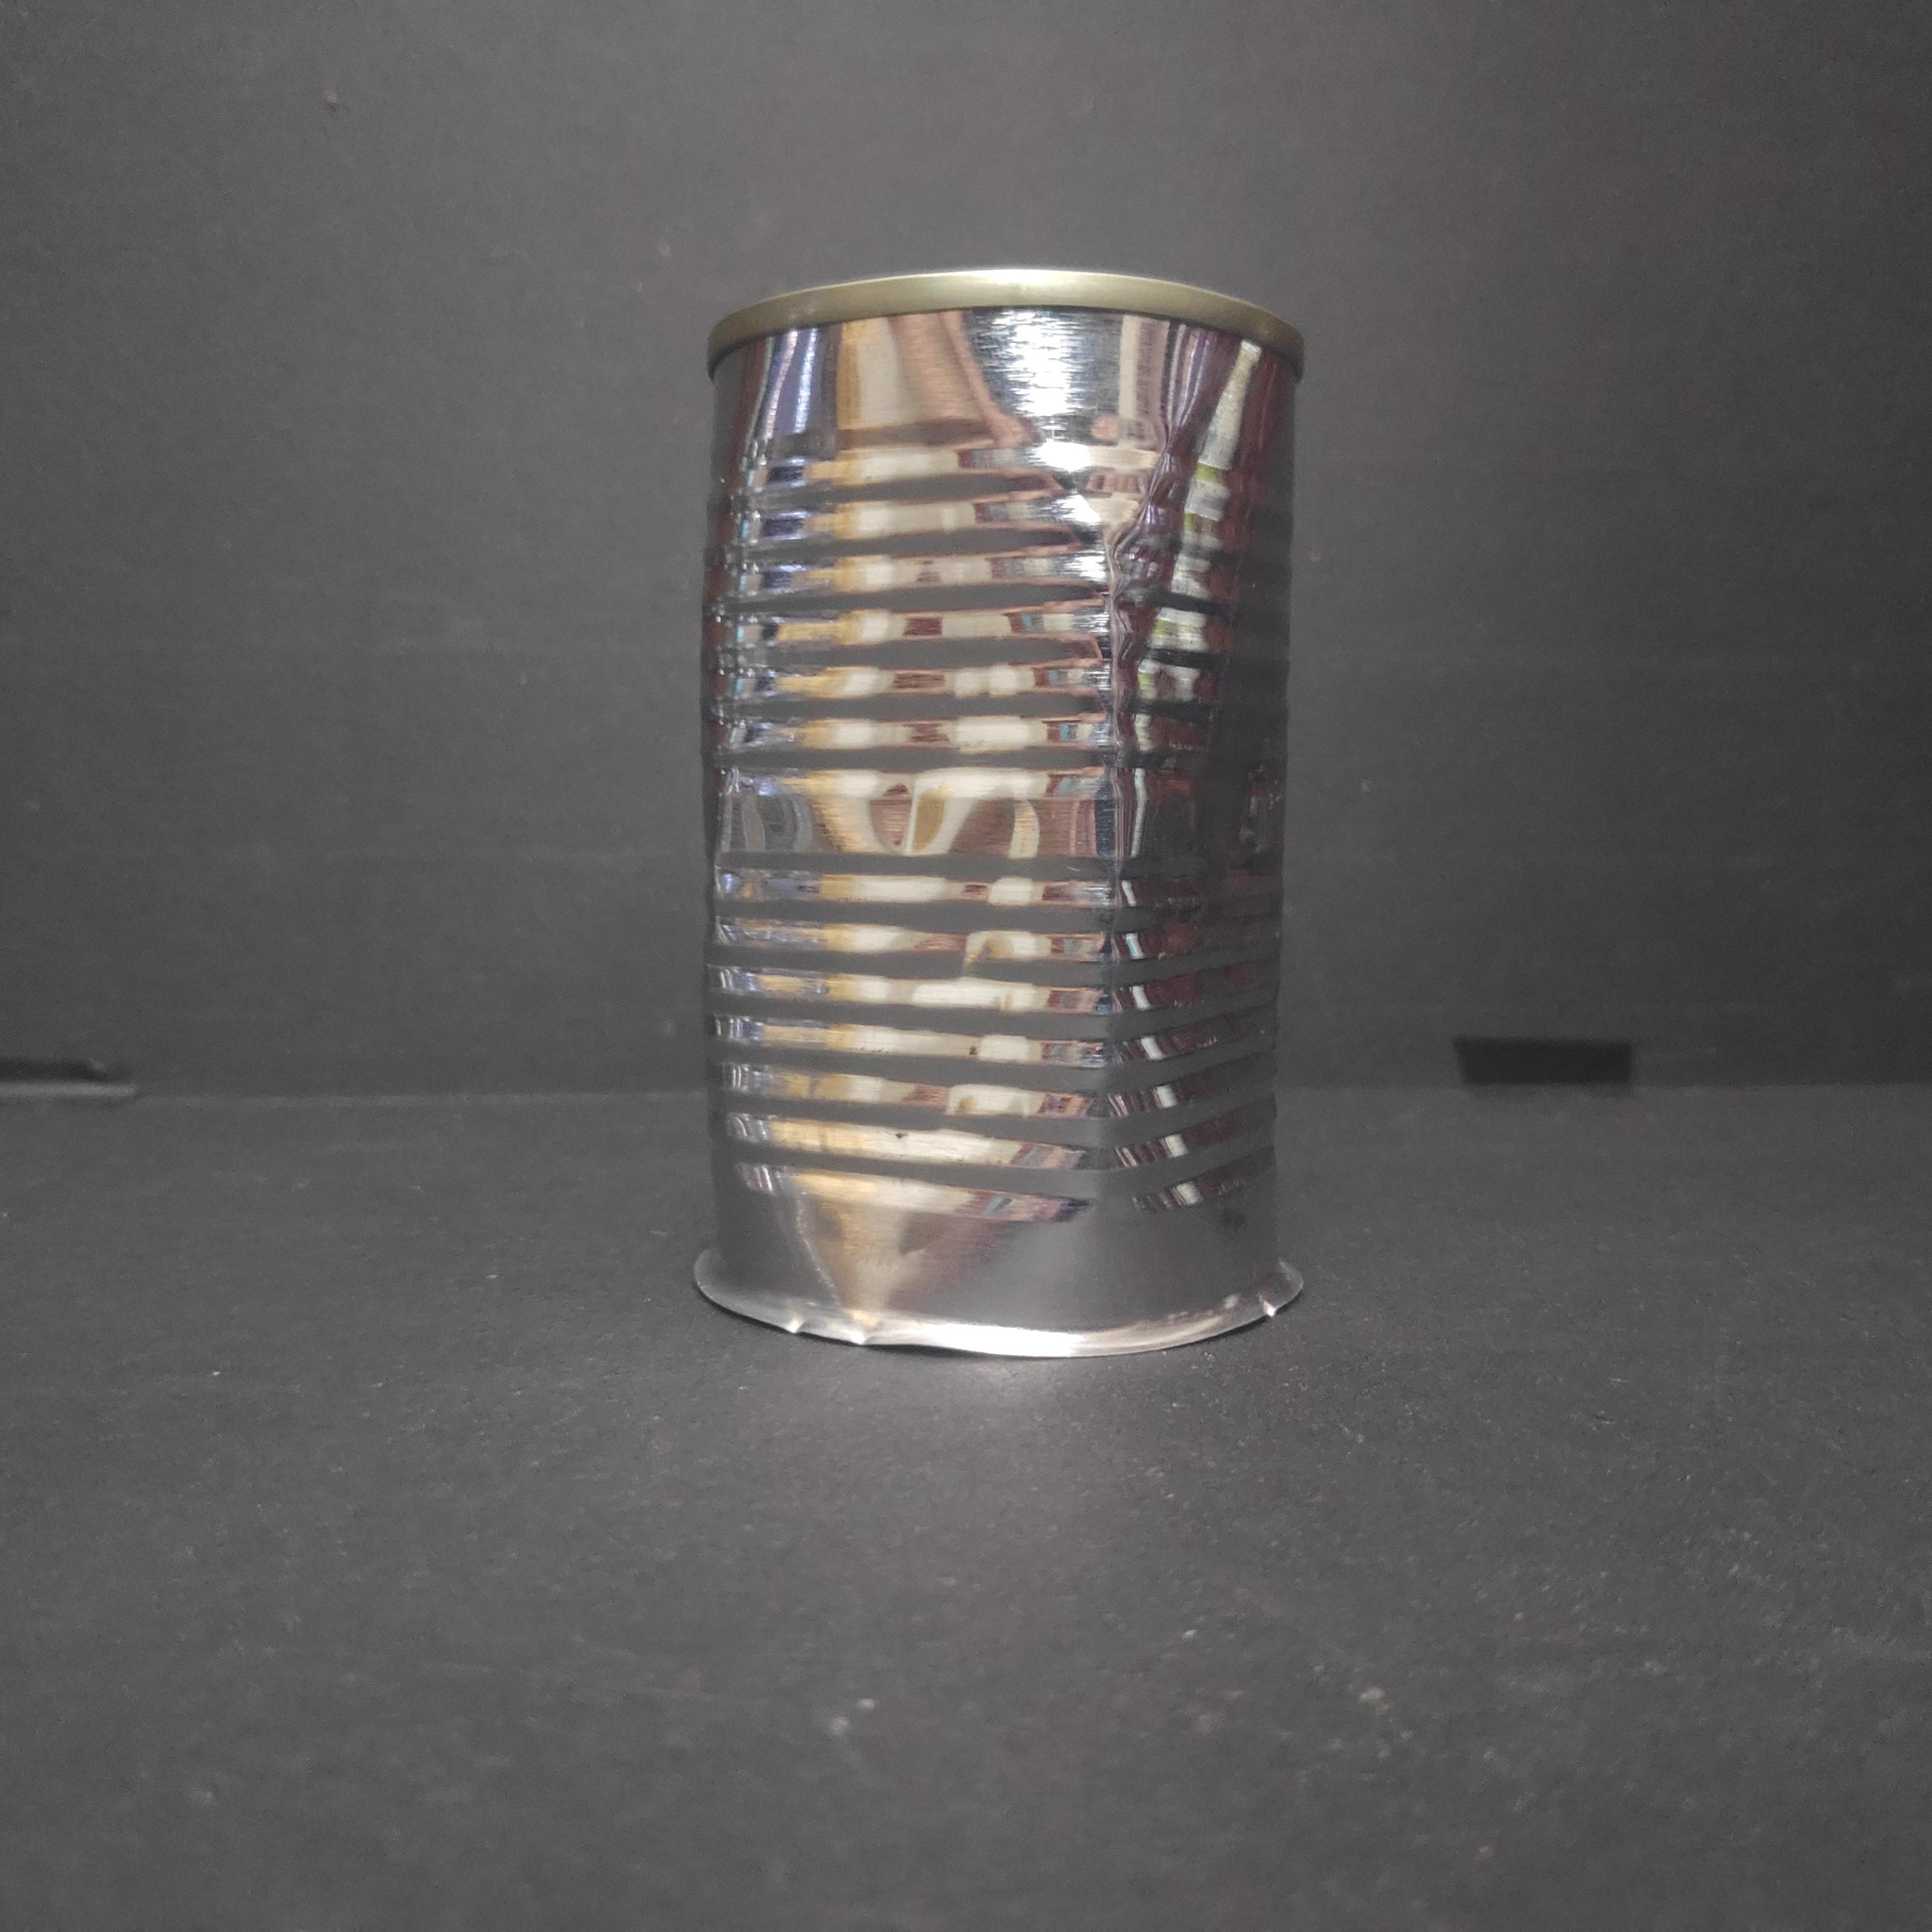Dented: (655, 234, 1355, 1396)
